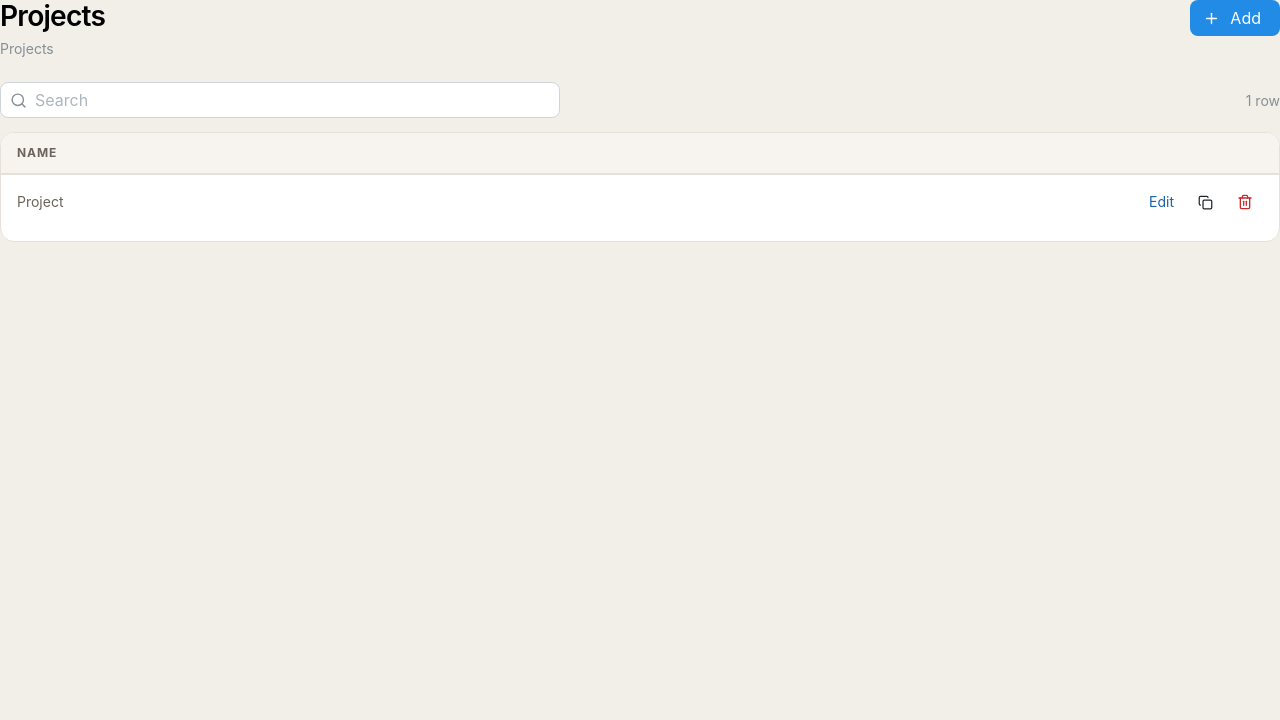
Test: keeps bare-array table data stable while a project edit dialog opens
The width and height of the screenshot is (1280, 720).
Step 1. Click the button "Edit" → (1162, 202), box x1=1140 y1=189 x2=1183 y2=215
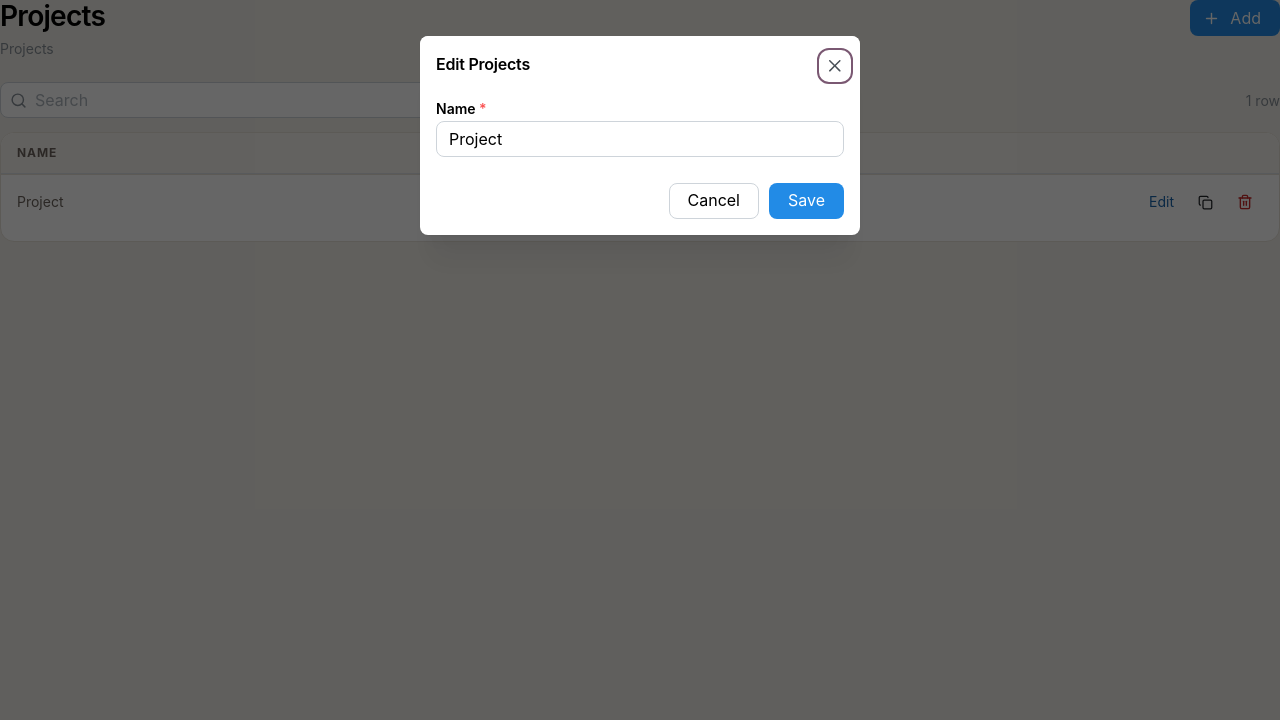
Check: the dialog "Edit Projects" is shown, box x1=420 y1=36 x2=860 y2=235
